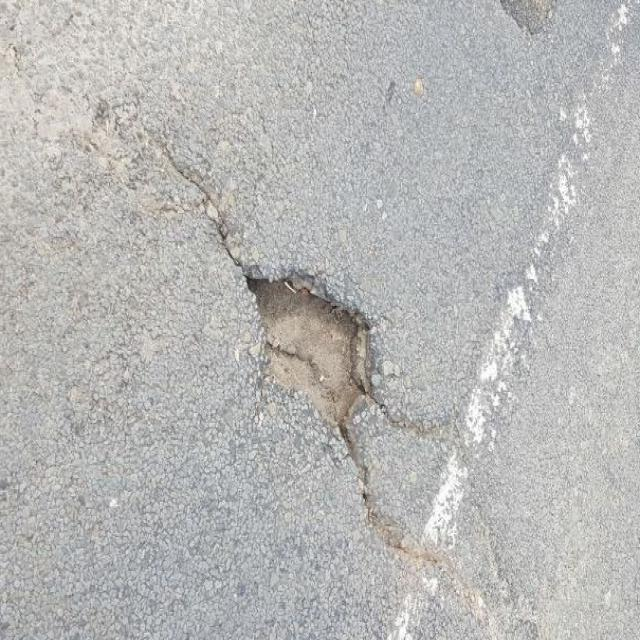Pothole: (239, 254, 388, 445)
